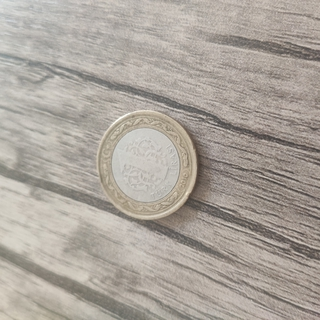1TL: (95, 108, 201, 221)
